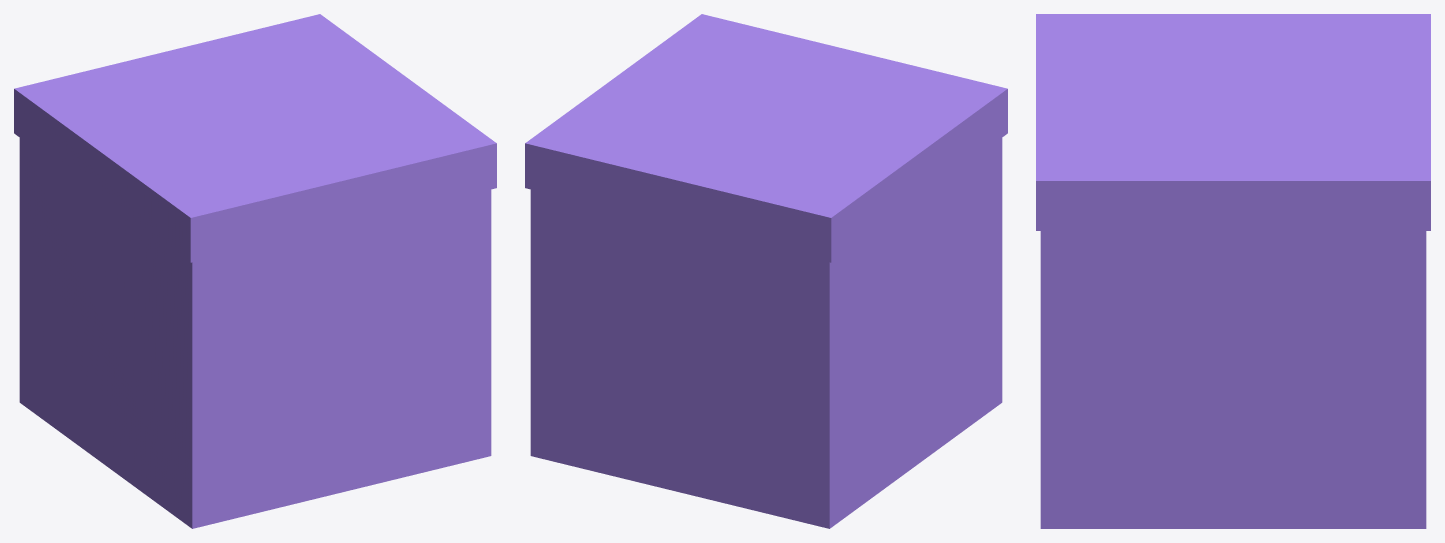
Rendered from prebox08270338purple.fbx.
3 views of the same model, side by side, from view 1: azimuth 30°, elevation 25°; view 2: azimuth 150°, elevation 25°; view 3: azimuth 270°, elevation 25° (orthographic). The views are drawn at different scales.
Visible parts, largest first — view 1: Cube; view 2: Cube; view 3: Cube.
Boxes of the visible parts, <box> form: Cube: <box>14,14,496,528</box>; Cube: <box>525,14,1007,528</box>; Cube: <box>1036,14,1430,528</box>.
Size of the model in its own units: 2.05 by 2 by 2.05.
